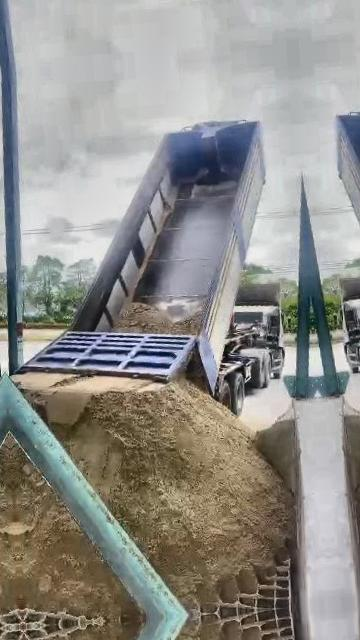sand: (14, 373, 293, 604), (11, 443, 140, 619), (255, 414, 299, 494), (112, 302, 200, 334), (186, 351, 207, 391)
